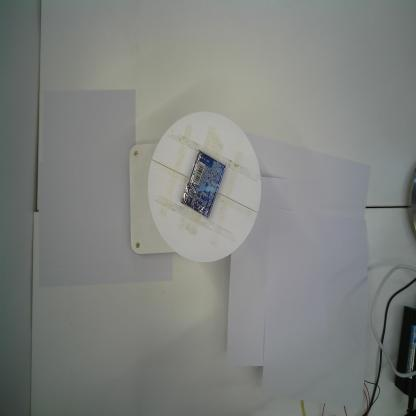Gum: (179, 149, 227, 220)
